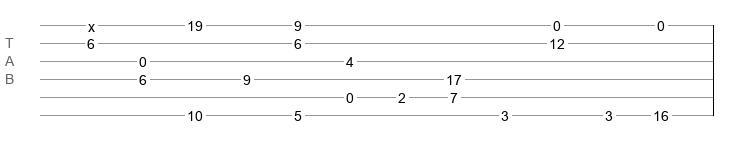0: (139, 54, 147, 64), (346, 90, 354, 100), (553, 18, 561, 28), (657, 18, 665, 28)
10: (187, 108, 203, 118)
12: (549, 36, 565, 46)
16: (653, 108, 669, 118)
17: (446, 72, 462, 82)
19: (187, 18, 203, 28)
2: (398, 90, 406, 100)
3: (501, 108, 509, 118), (605, 108, 613, 118)
4: (346, 54, 354, 64)
5: (294, 108, 302, 118)
6: (87, 36, 95, 46), (139, 72, 147, 82), (294, 36, 302, 46)
7: (450, 90, 458, 100)
9: (243, 72, 251, 82), (294, 18, 302, 28)
x: (88, 19, 95, 27)
